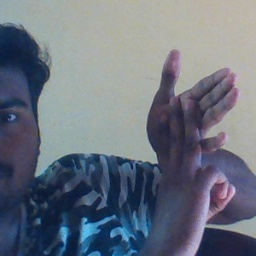M: (143, 48, 246, 218)
